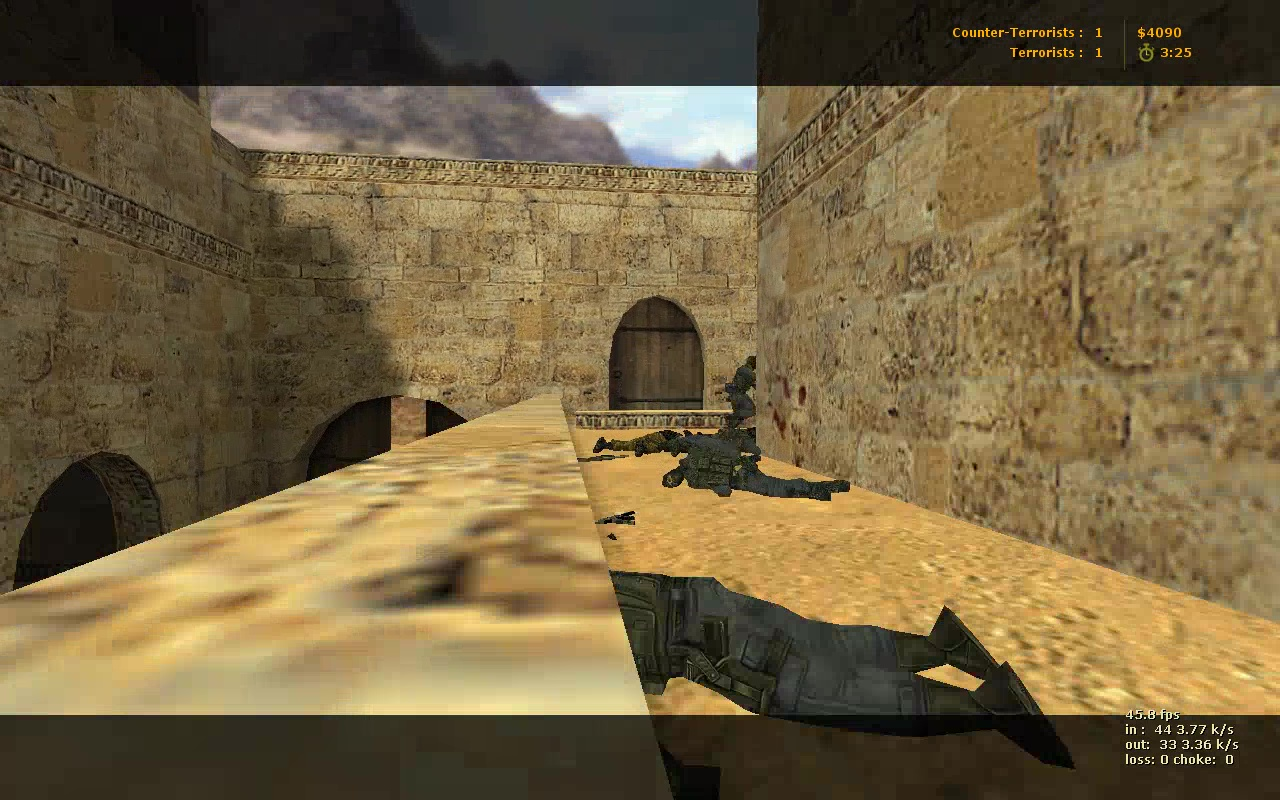ct: (720, 354, 761, 434)
dead: (610, 570, 1075, 784), (662, 435, 852, 497), (596, 426, 686, 458), (669, 430, 759, 456)
